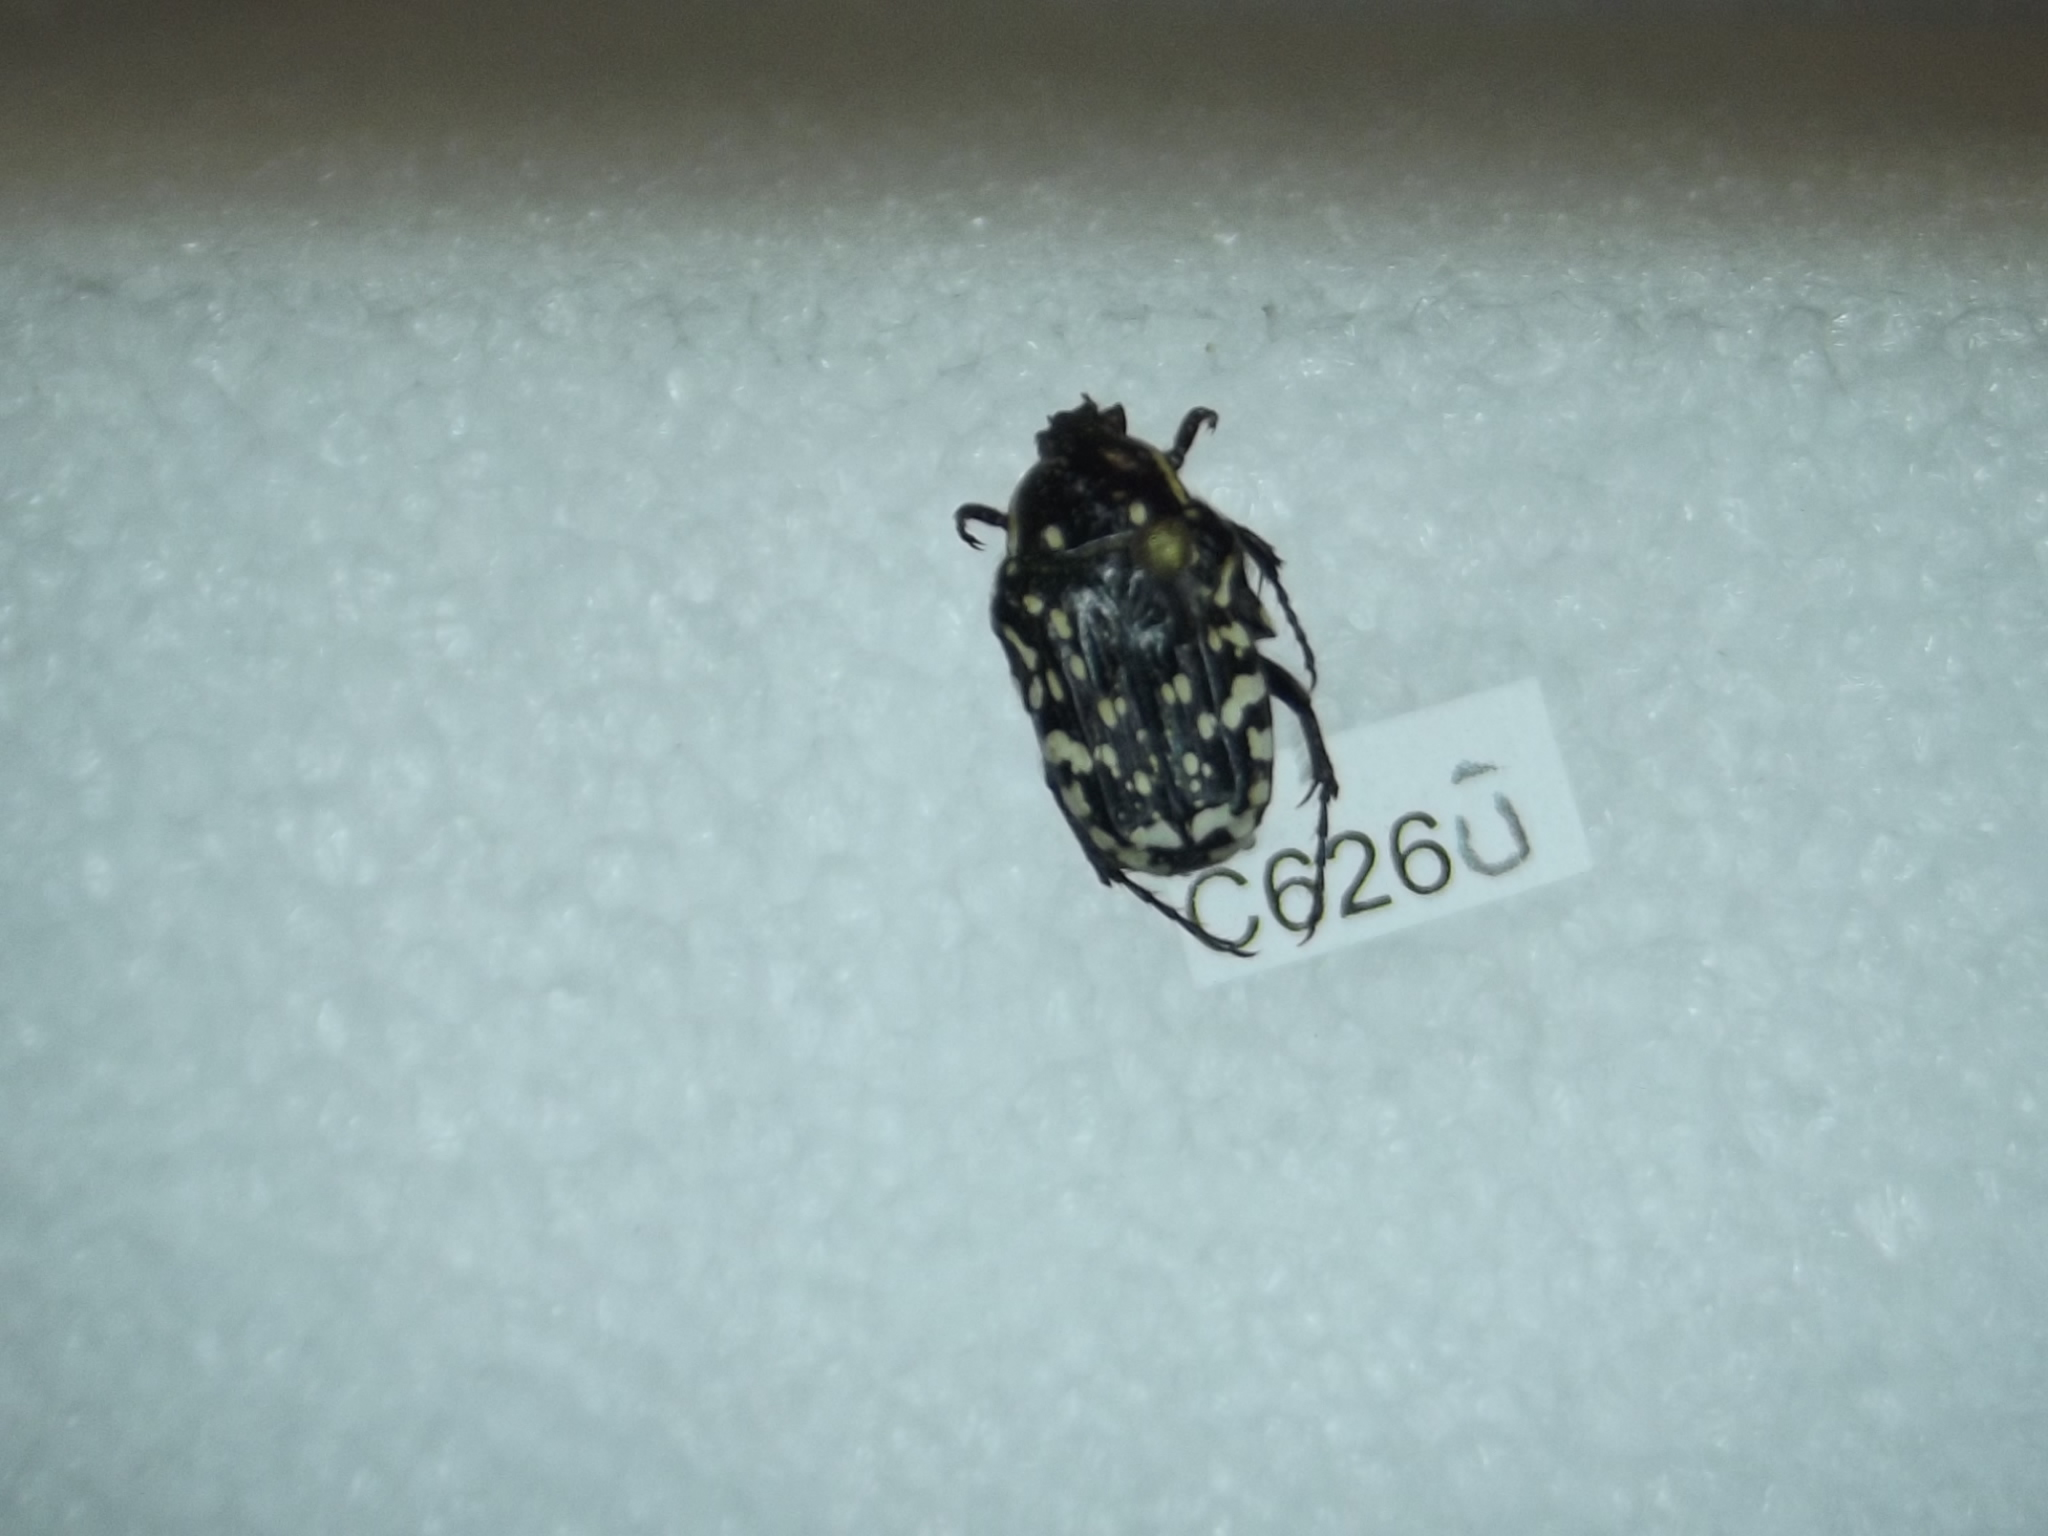Oxythyrea_funesta: (922, 363, 1359, 965)
